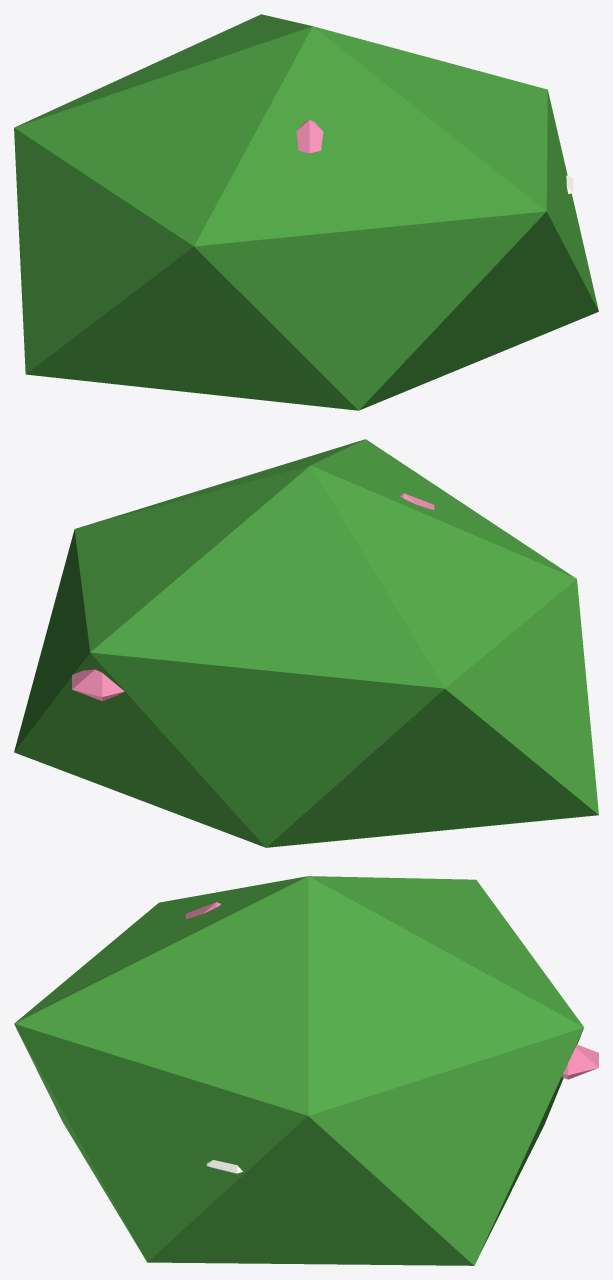
Rendered from Bush_Flowering.fbx.
The picture shows the model from 3 angles, top to bottom: view 1: azimuth 30°, elevation 25°; view 2: azimuth 150°, elevation 25°; view 3: azimuth 270°, elevation 25°; orthographic projection.
Visible parts, largest first — view 1: Bush_Flowering; view 2: Bush_Flowering; view 3: Bush_Flowering.
Part boxes in pixels (x1=…): Bush_Flowering: x1=14, y1=14, x2=598, y2=410; Bush_Flowering: x1=14, y1=439, x2=598, y2=847; Bush_Flowering: x1=14, y1=876, x2=598, y2=1265.
Size of the model in its own units: 1.56 by 0.7926 by 1.48.
